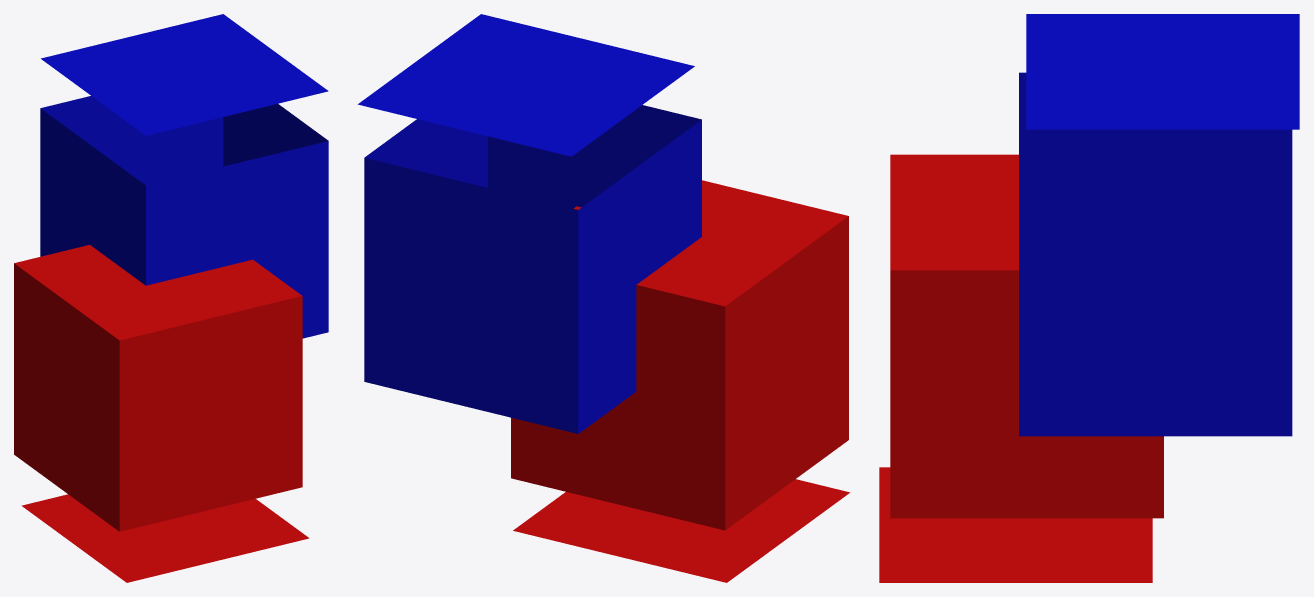
Rendered from totalTree.obj.
3 renders of one model, left to right at view 1: azimuth 30°, elevation 25°; view 2: azimuth 150°, elevation 25°; view 3: azimuth 270°, elevation 25°, orthographic. The views are drawn at different scales.
Visible parts, largest first — view 1: bunnyA.001, bunnyB.001; view 2: bunnyB.001, bunnyA.001; view 3: bunnyB.001, bunnyA.001.
Part boxes in pixels (x1=…): bunnyA.001: x1=14, y1=244, x2=309, y2=582; bunnyB.001: x1=40, y1=14, x2=328, y2=338; bunnyB.001: x1=357, y1=14, x2=701, y2=433; bunnyA.001: x1=511, y1=180, x2=850, y2=582; bunnyB.001: x1=1019, y1=14, x2=1299, y2=436; bunnyA.001: x1=879, y1=154, x2=1163, y2=582.
Bounding box in the file's own units: 2.86 × 4.04 × 3.07.
